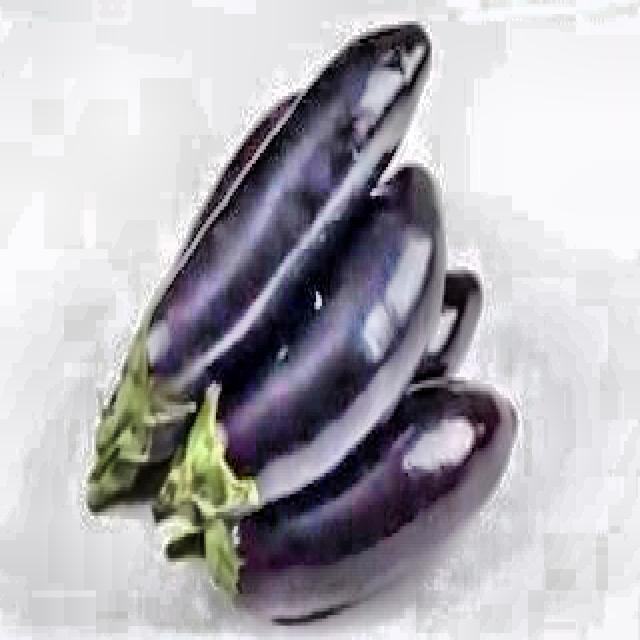Vegetable: (62, 10, 544, 640)
